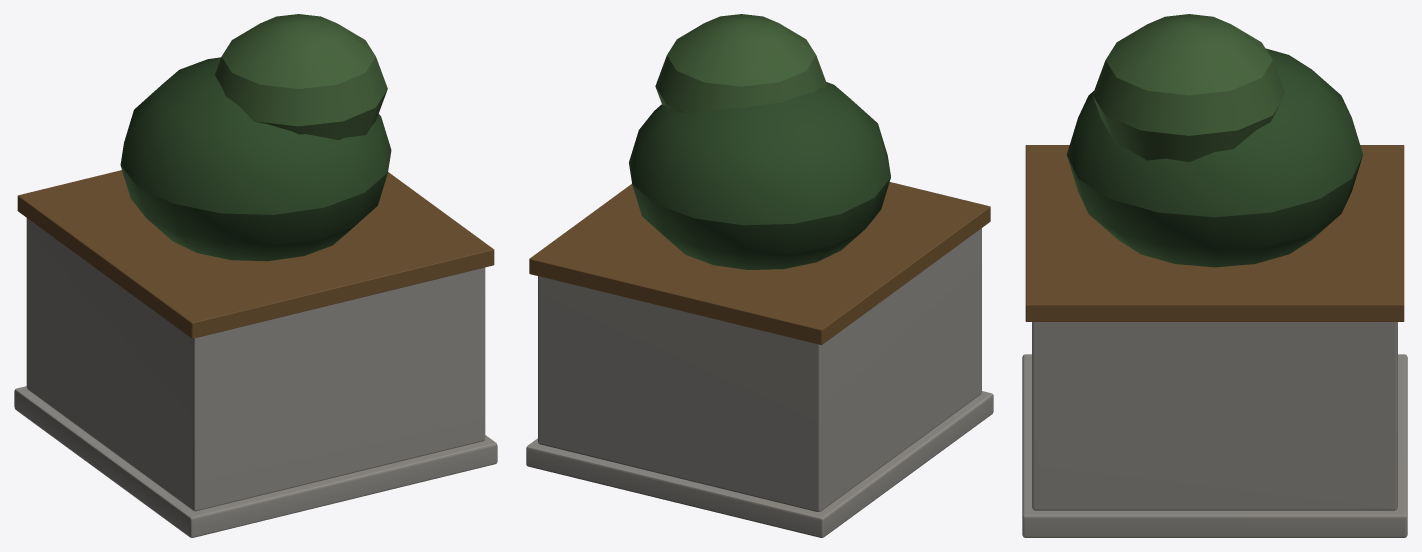
The model's file is prop_of_planter_sq120.glb.
3 views of the same model, side by side, from view 1: azimuth 30°, elevation 25°; view 2: azimuth 150°, elevation 25°; view 3: azimuth 270°, elevation 25° (orthographic). The views are drawn at different scales.
Visible parts, largest first — view 1: Planter; view 2: Planter; view 3: Planter.
Boxes of the visible parts, x1=… form: Planter: x1=14, y1=14, x2=497, y2=537; Planter: x1=526, y1=14, x2=993, y2=537; Planter: x1=1022, y1=14, x2=1407, y2=537.
Bounding box in the file's own units: 1.2 × 1.54 × 1.2.
